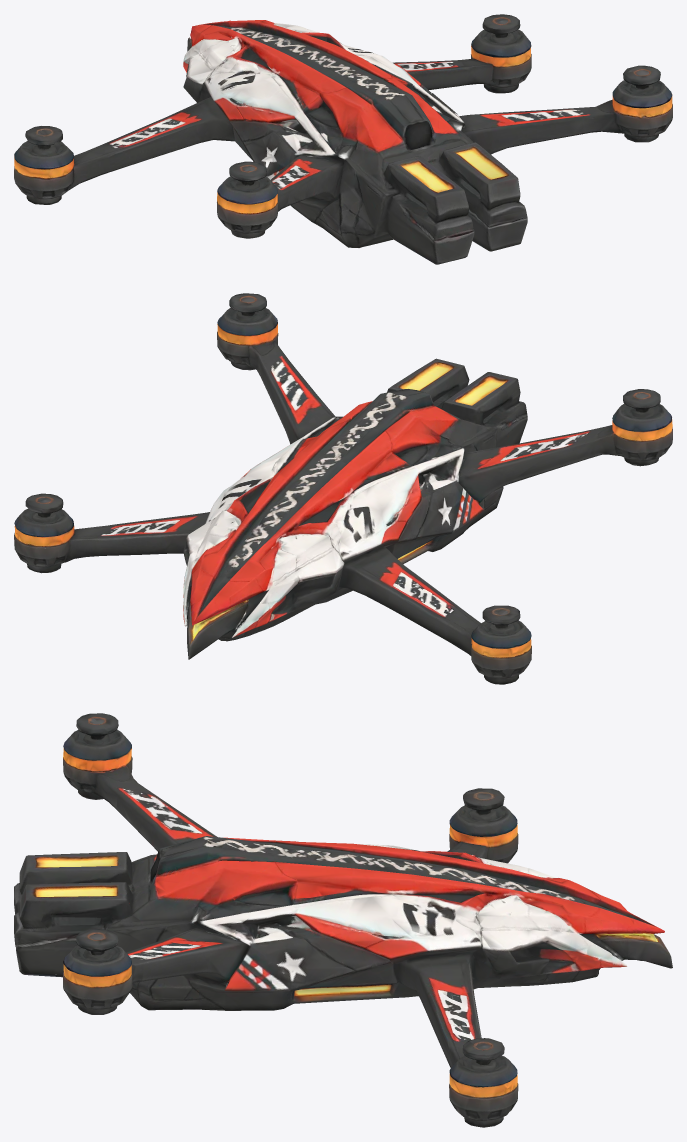
File: drone-elang.glb
3 views of the same model, one above another, from view 1: azimuth 30°, elevation 25°; view 2: azimuth 150°, elevation 25°; view 3: azimuth 270°, elevation 25° (orthographic). The views are drawn at different scales.
Parts seen in each view (by area): view 1: drone-elang; view 2: drone-elang; view 3: drone-elang.
Part boxes in pixels (box(x1,y1,x2,y2)): drone-elang: box(14, 14, 672, 264); drone-elang: box(14, 293, 672, 684); drone-elang: box(14, 713, 672, 1127).
Bounding box in the file's own units: 2 × 0.5559 × 2.
Materials: 1 (1 with a texture image).
